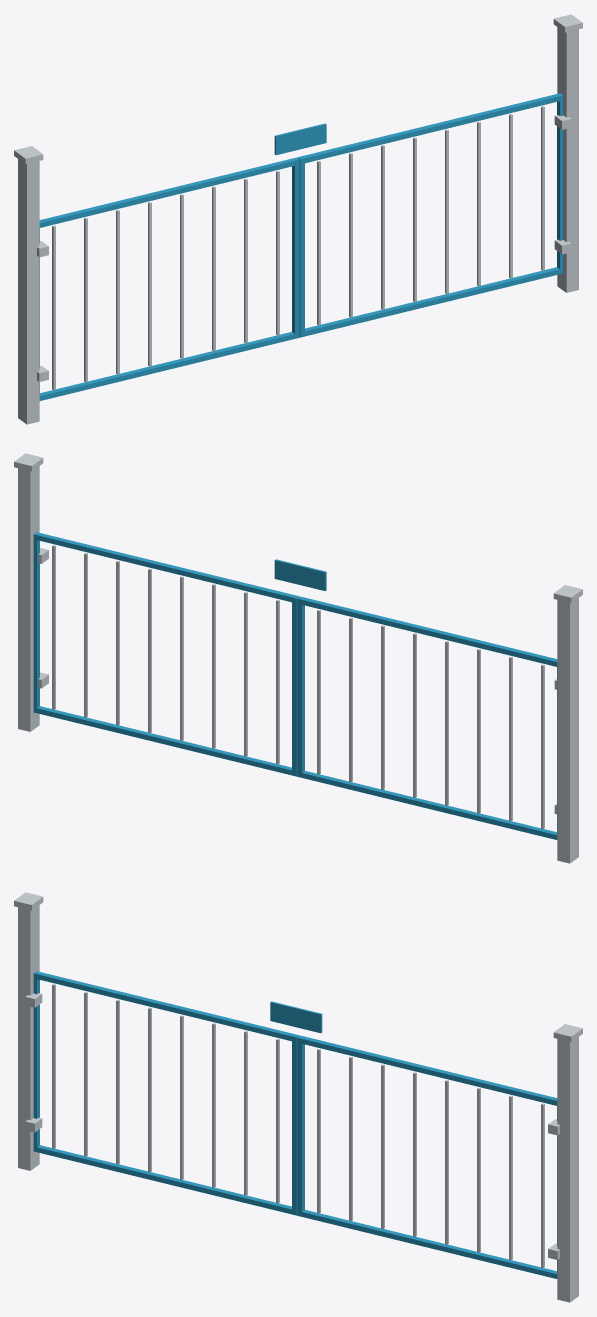
The model's file is gate.glb.
3 renders of one model, top to bottom at view 1: azimuth 30°, elevation 25°; view 2: azimuth 150°, elevation 25°; view 3: azimuth 330°, elevation 25°, orthographic.
Parts seen in each view (by area): view 1: GATE_STEEL, GATE_BLUE; view 2: GATE_STEEL, GATE_BLUE; view 3: GATE_STEEL, GATE_BLUE.
Boxes of the visible parts, x1,y1,x2,y2 form: GATE_STEEL: (14, 14, 582, 424); GATE_BLUE: (39, 93, 563, 400); GATE_STEEL: (14, 453, 582, 863); GATE_BLUE: (33, 532, 557, 839); GATE_STEEL: (14, 892, 582, 1302); GATE_BLUE: (33, 971, 557, 1278).
Size of the model in its own units: 5.29 by 2.42 by 0.21.
